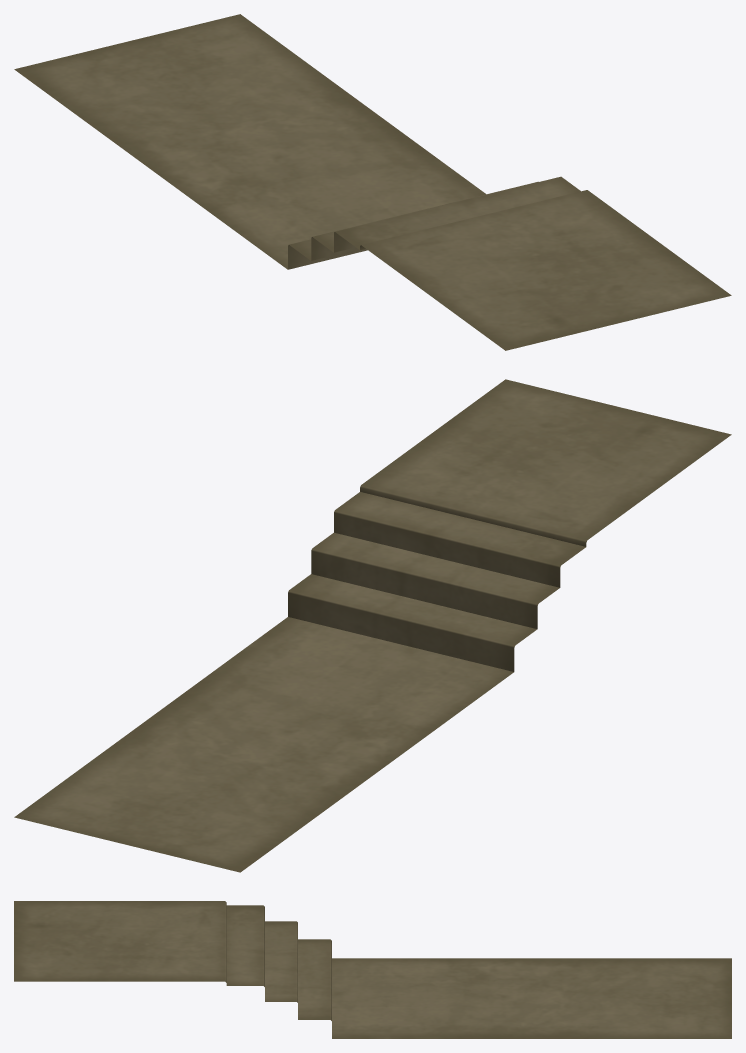
Rendered from SM_Rug_00.fbx.
The picture shows the model from 3 angles, top to bottom: view 1: azimuth 30°, elevation 25°; view 2: azimuth 150°, elevation 25°; view 3: azimuth 270°, elevation 25°; orthographic projection. The views are drawn at different scales.
Visible parts, largest first — view 1: SM_Rug_01; view 2: SM_Rug_01; view 3: SM_Rug_01.
Part boxes in pixels (box(x1,y1,x2,y2)): SM_Rug_01: box(14, 14, 731, 350); SM_Rug_01: box(14, 379, 731, 872); SM_Rug_01: box(14, 901, 731, 1038).
Size of the model in its own units: 199 by 65.86 by 750.
Materials: 1 (1 with a texture image).
